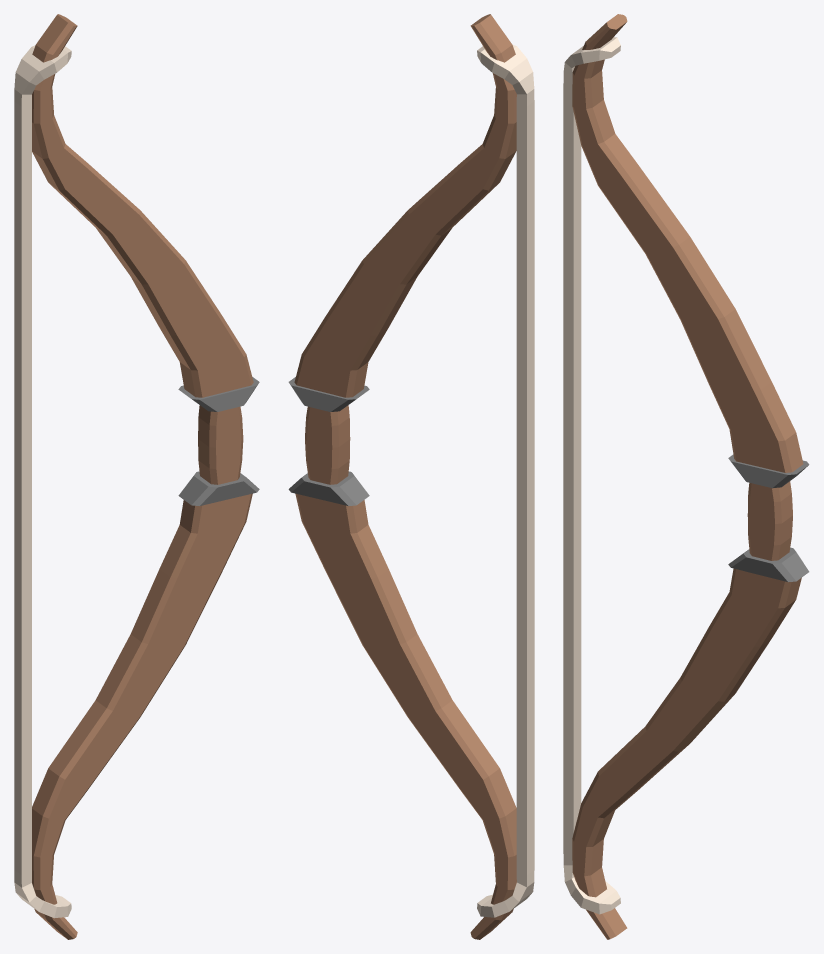
File: bow.fbx
The picture shows the model from 3 angles, left to right: view 1: azimuth 30°, elevation 25°; view 2: azimuth 150°, elevation 25°; view 3: azimuth 330°, elevation 25°; orthographic projection.
Parts seen in each view (by area): view 1: Plane; view 2: Plane; view 3: Plane.
Boxes of the visible parts, bbox=[...] form: Plane: bbox=[14, 14, 259, 939]; Plane: bbox=[288, 14, 534, 939]; Plane: bbox=[563, 14, 809, 939].
Bounding box in the file's own units: 40.1 × 149 × 6.63.
